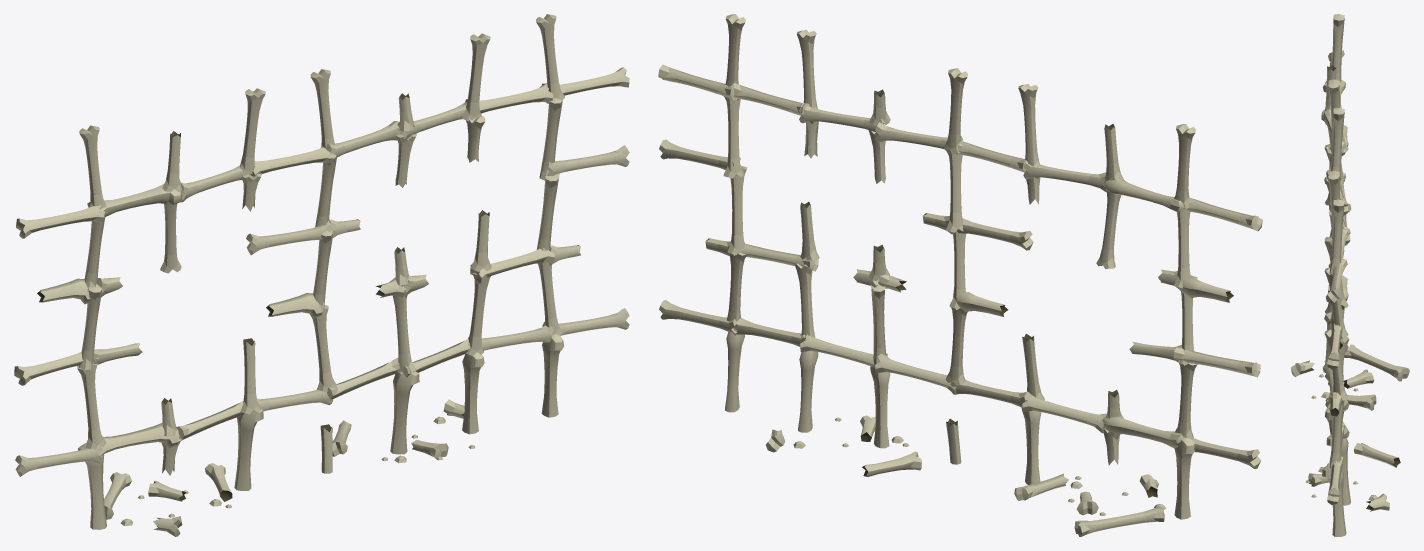
The model's file is Huesos_L.fbx.
3 renders of one model, left to right at view 1: azimuth 30°, elevation 25°; view 2: azimuth 150°, elevation 25°; view 3: azimuth 270°, elevation 25°, orthographic. The views are drawn at different scales.
Visible parts, largest first — view 1: Hueso_L; view 2: Hueso_L; view 3: Hueso_L.
Part boxes in pixels (x1,y1,x2,y2): Hueso_L: (14, 14, 629, 536); Hueso_L: (658, 14, 1262, 536); Hueso_L: (1291, 14, 1409, 536).
Size of the model in its own units: 455 by 289 by 92.36.
